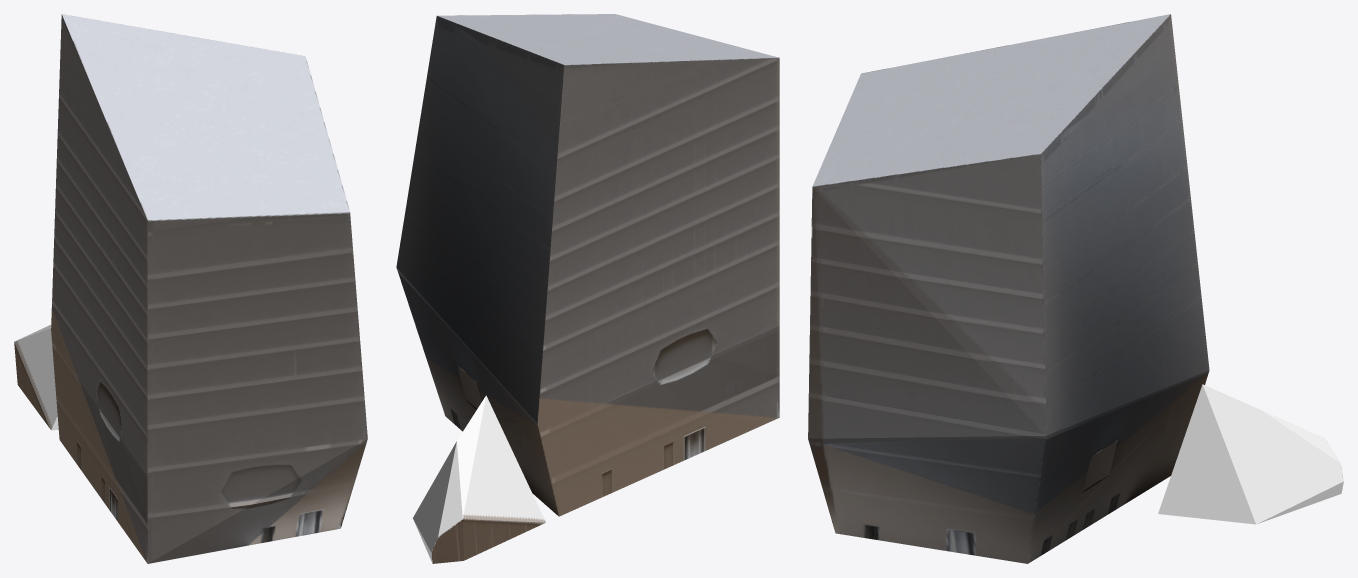
3 views of the same model, side by side, from view 1: azimuth 30°, elevation 25°; view 2: azimuth 150°, elevation 25°; view 3: azimuth 270°, elevation 25° (orthographic). The views are drawn at different scales.
Parts seen in each view (by area): view 1: 210.A.001; view 2: 210.A.001; view 3: 210.A.001.
Part boxes in pixels (x1,y1,x2,y2): 210.A.001: (14, 14, 367, 563); 210.A.001: (396, 14, 779, 563); 210.A.001: (808, 14, 1343, 563).
Bounding box in the file's own units: 35.9 × 52.76 × 56.16.
Materials: 1 (1 with a texture image).
